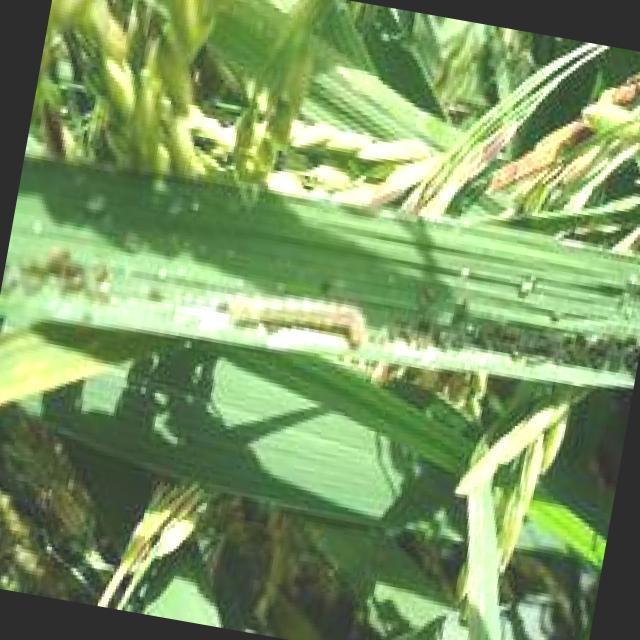leaf folder: (219, 296, 366, 348)
